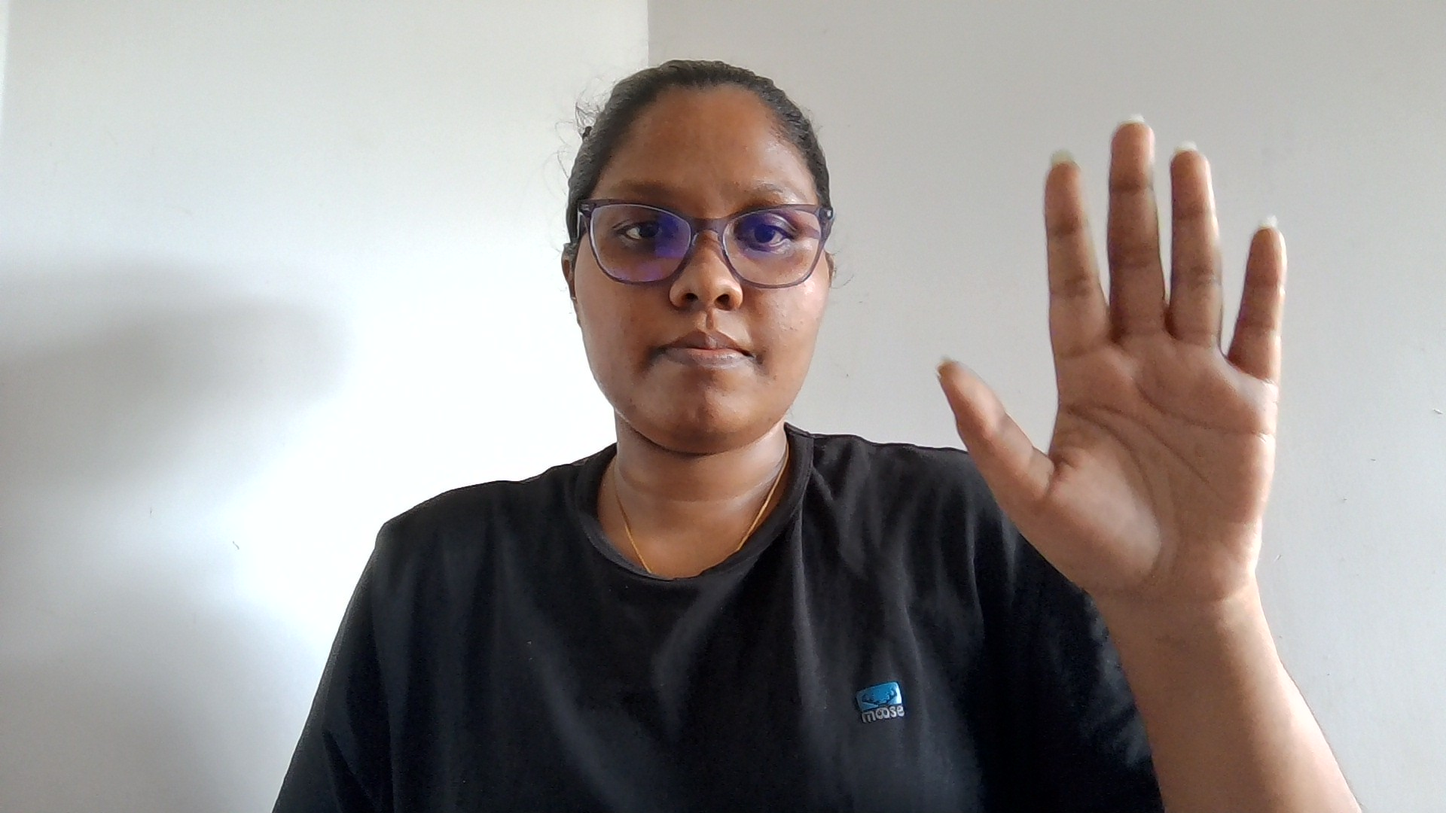Hello: (919, 31, 1352, 668)
